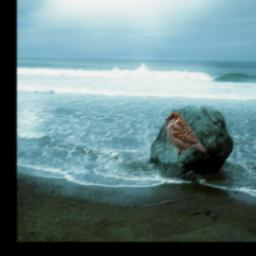Sparrow: (165, 112, 207, 157)
